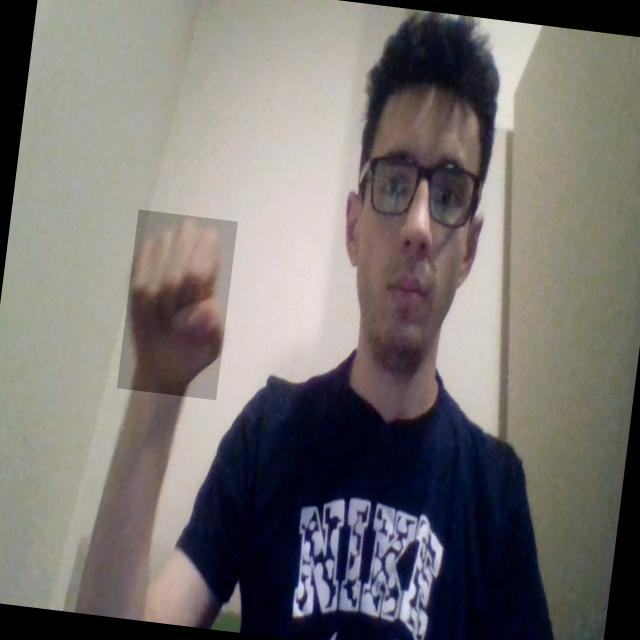yes: (117, 209, 238, 400)
